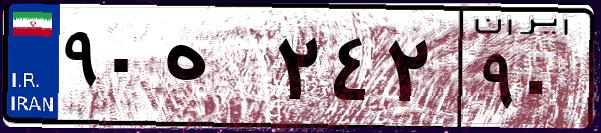0: (525, 38, 570, 115), (110, 28, 158, 98)
2: (270, 28, 330, 110), (385, 28, 445, 110)
4: (330, 28, 385, 110)
9: (57, 26, 110, 100), (475, 38, 525, 113)
ه: (158, 20, 270, 120)
